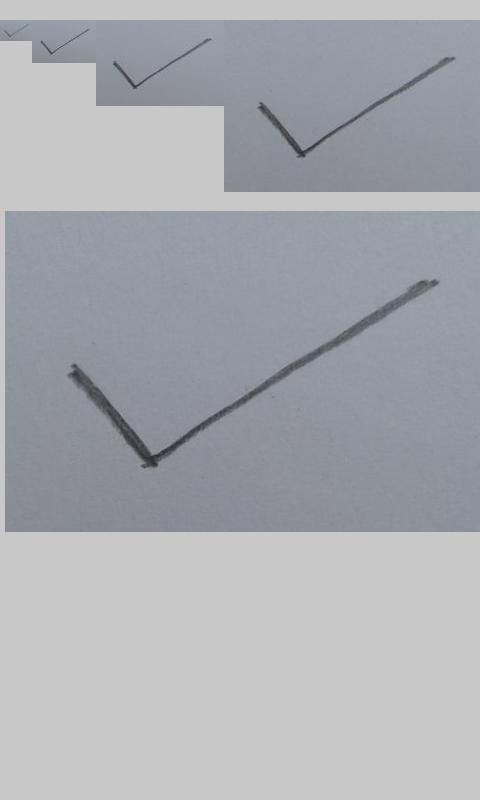check_box: (70, 279, 437, 467), (258, 57, 453, 158), (113, 38, 210, 89), (40, 29, 88, 55), (3, 26, 26, 38)
